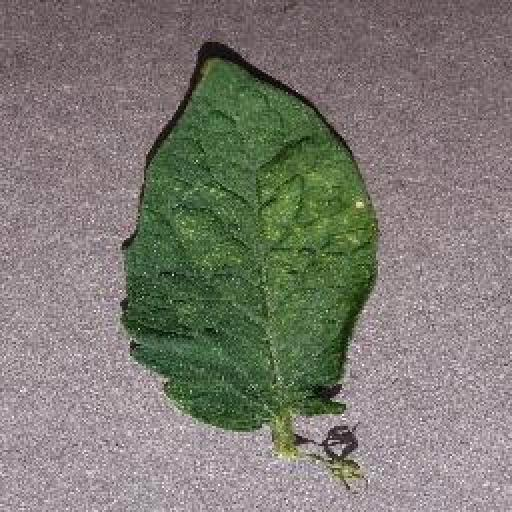disease_tomato: (122, 53, 380, 431)
